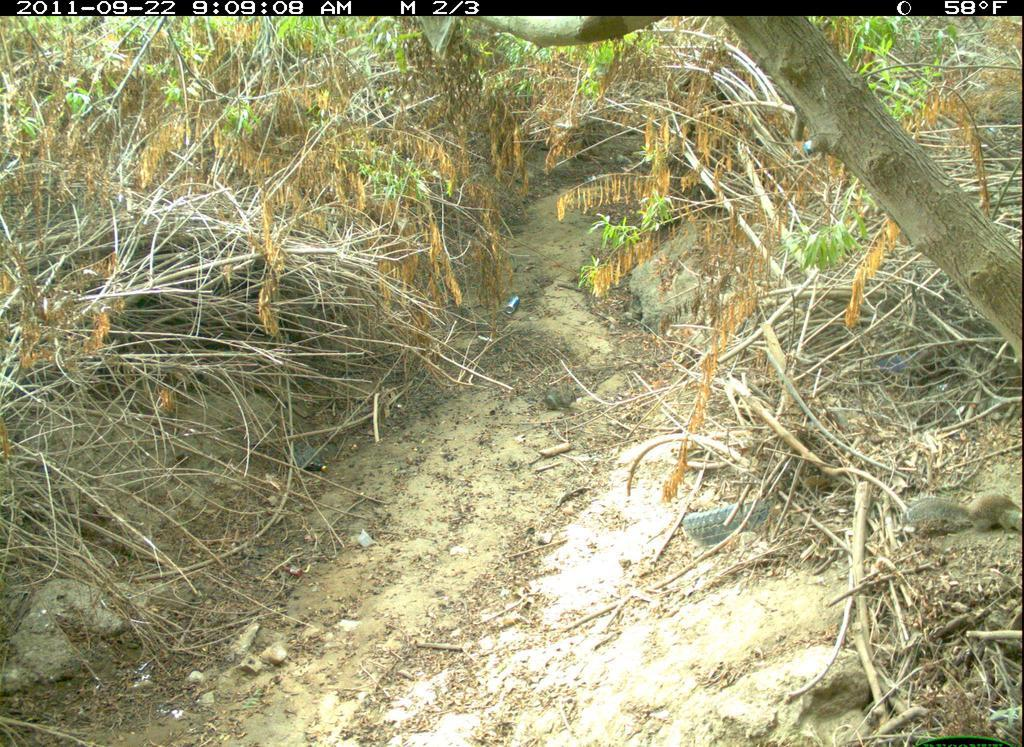squirrel: (891, 483, 1023, 551)
